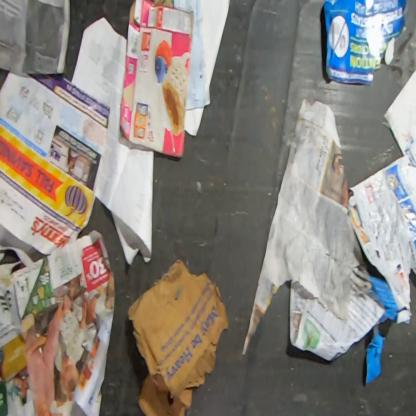cardboard: (126, 257, 230, 415), (120, 0, 195, 160), (364, 273, 404, 385)
soft_plastic: (388, 21, 415, 91)
